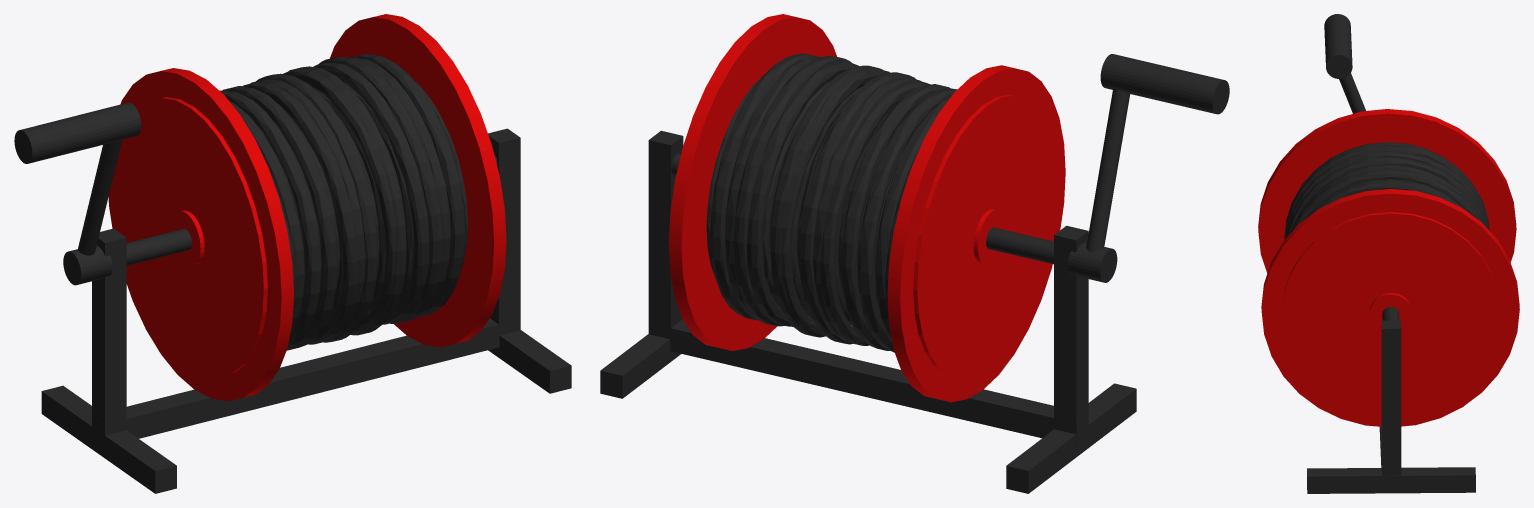
File: ta muito feio carol shaw.fbx
3 views of the same model, side by side, from view 1: azimuth 30°, elevation 25°; view 2: azimuth 150°, elevation 25°; view 3: azimuth 270°, elevation 25° (orthographic). The views are drawn at different scales.
Visible parts, largest first — view 1: Hose reel.001; view 2: Hose reel.001; view 3: Hose reel.001.
Part boxes in pixels (bbox=[...]): Hose reel.001: bbox=[14, 14, 571, 493]; Hose reel.001: bbox=[600, 14, 1229, 493]; Hose reel.001: bbox=[1258, 14, 1519, 493].
Bounding box in the file's own units: 2189 × 1470 × 1231.
